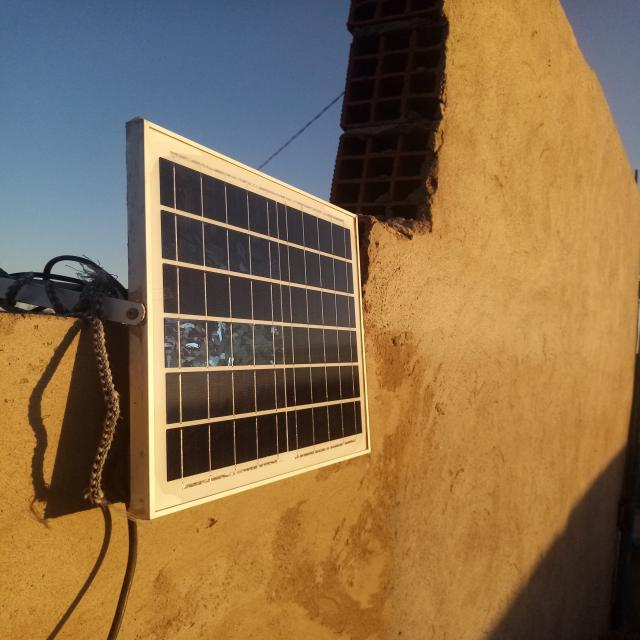no faulty: (144, 123, 373, 518)
